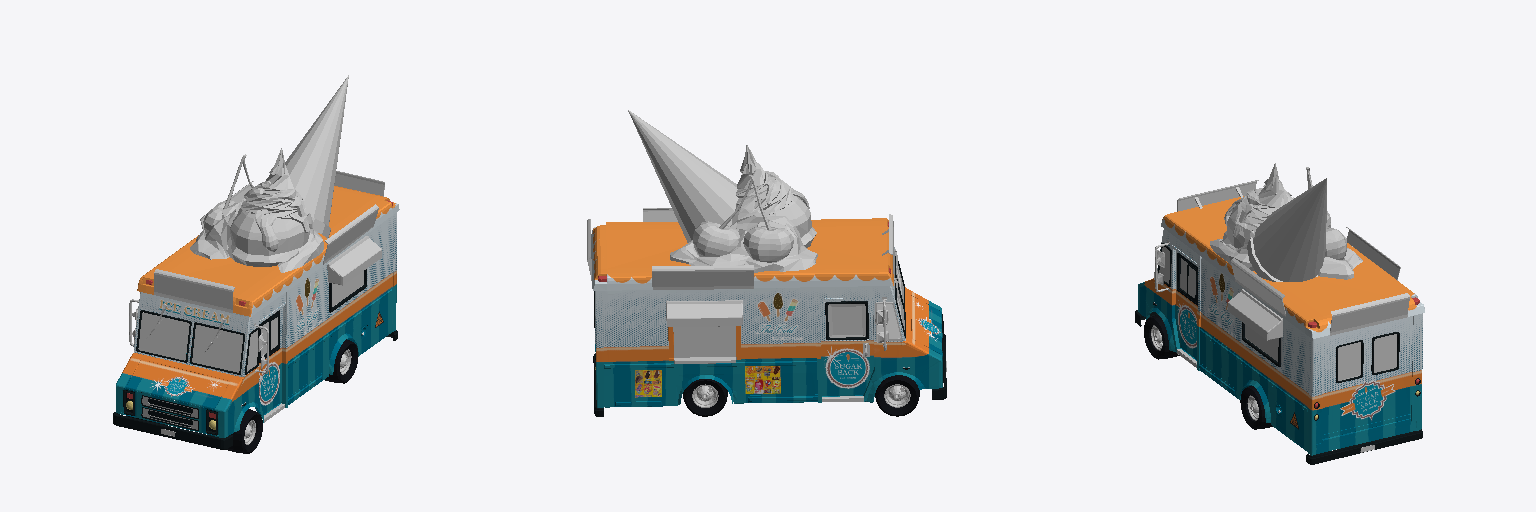
The picture shows the model from 3 angles: view 1: azimuth 30°, elevation 25°; view 2: azimuth 150°, elevation 25°; view 3: azimuth 270°, elevation 25°; orthographic projection.
Parts seen in each view (by area): view 1: car_base_low_poly; view 2: car_base_low_poly; view 3: car_base_low_poly.
Part boxes in pixels (x1,y1,x2,y2): car_base_low_poly: (113,75,399,453); car_base_low_poly: (587,110,946,416); car_base_low_poly: (1135,163,1424,464).
Size of the model in its own units: 175 by 142 by 138.
7 materials, 3 textured.